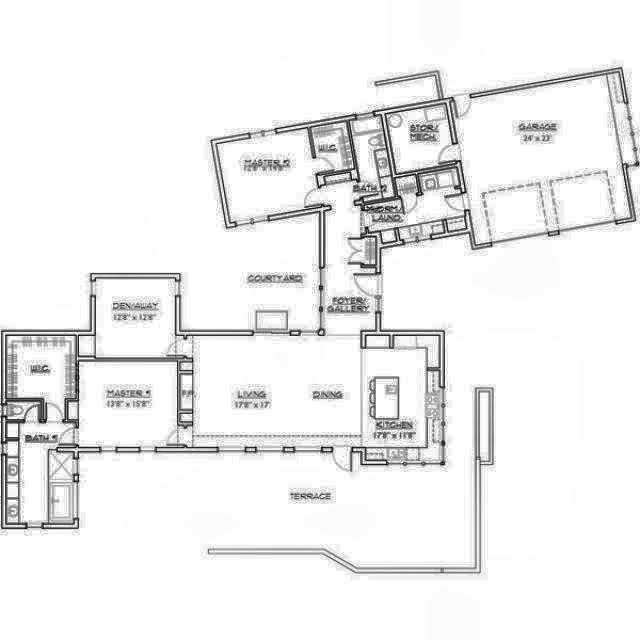room: (180, 179, 440, 460), (68, 361, 183, 447), (217, 129, 321, 223), (360, 167, 468, 246), (78, 278, 183, 358), (7, 422, 76, 524), (6, 335, 76, 420), (386, 104, 456, 174), (350, 115, 395, 202), (311, 122, 354, 174), (7, 402, 41, 419)
